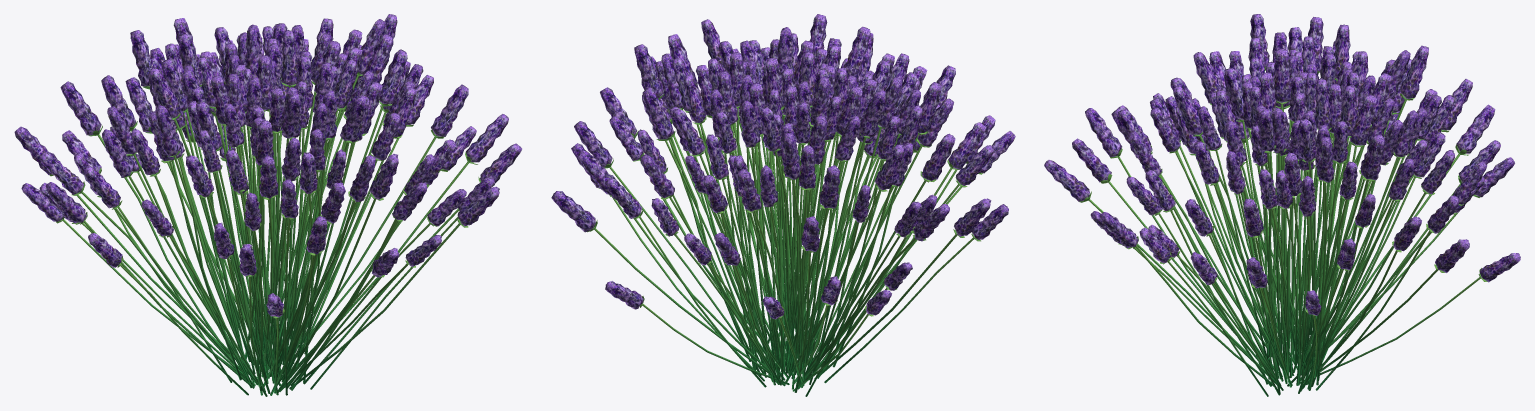
The model's file is planta_lavanda.glb.
3 renders of one model, left to right at view 1: azimuth 30°, elevation 25°; view 2: azimuth 150°, elevation 25°; view 3: azimuth 270°, elevation 25°, orthographic. The views are drawn at different scales.
Visible parts, largest first — view 1: planta_lavanda; view 2: planta_lavanda; view 3: planta_lavanda.
Boxes of the visible parts, x1=… form: planta_lavanda: x1=14, y1=14, x2=522, y2=396; planta_lavanda: x1=551, y1=14, x2=1015, y2=396; planta_lavanda: x1=1044, y1=14, x2=1520, y2=396.
Size of the model in its own units: 81.8 by 64.7 by 82.1.
3 materials, 3 textured.
